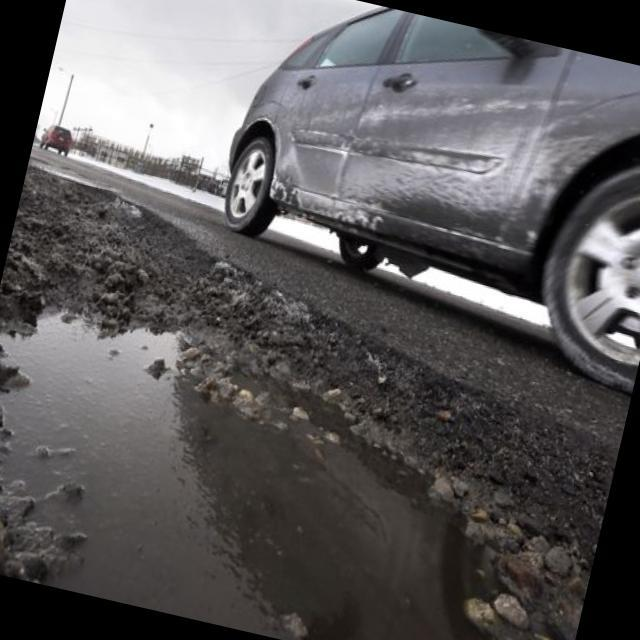Pothole: (0, 236, 634, 640)
